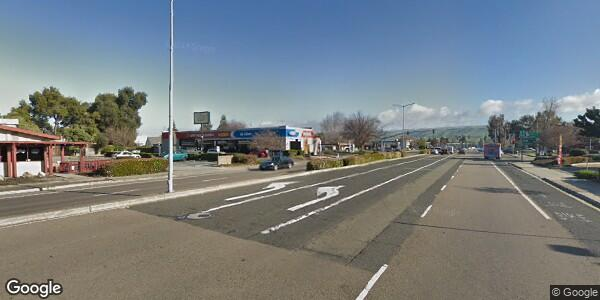Steel_Pole: (160, 1, 183, 200)
